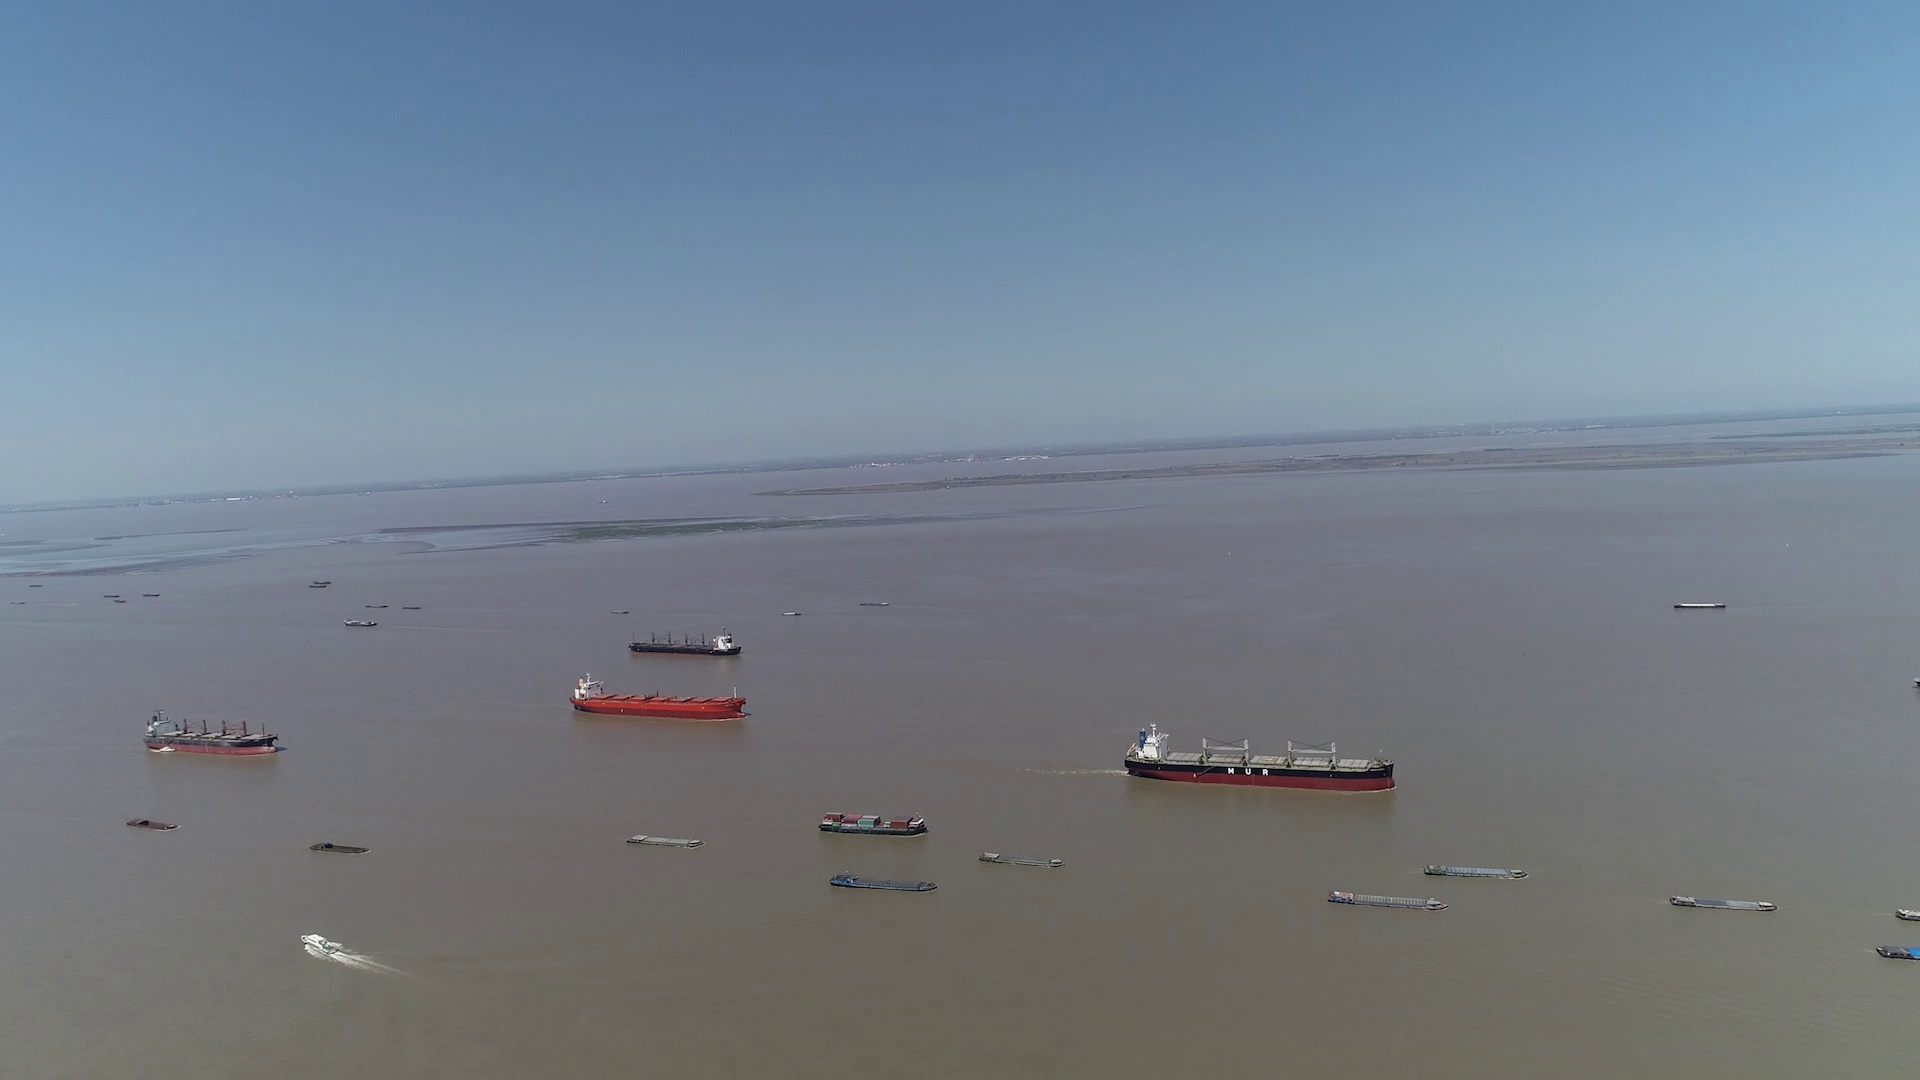ship: (1124, 724, 1395, 794), (570, 673, 744, 720), (144, 708, 276, 756), (629, 626, 742, 655), (1329, 889, 1447, 911), (820, 814, 928, 836), (832, 872, 936, 891), (1668, 893, 1775, 911), (1425, 862, 1524, 880), (978, 849, 1065, 866), (625, 833, 705, 848), (1876, 939, 1919, 963), (299, 932, 338, 953), (310, 840, 371, 853), (123, 818, 171, 831), (1894, 905, 1919, 922), (1672, 601, 1724, 609), (343, 618, 376, 628)
